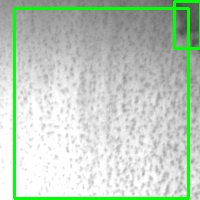patches: (174, 1, 200, 48)
pitted_surface: (14, 9, 188, 198)
